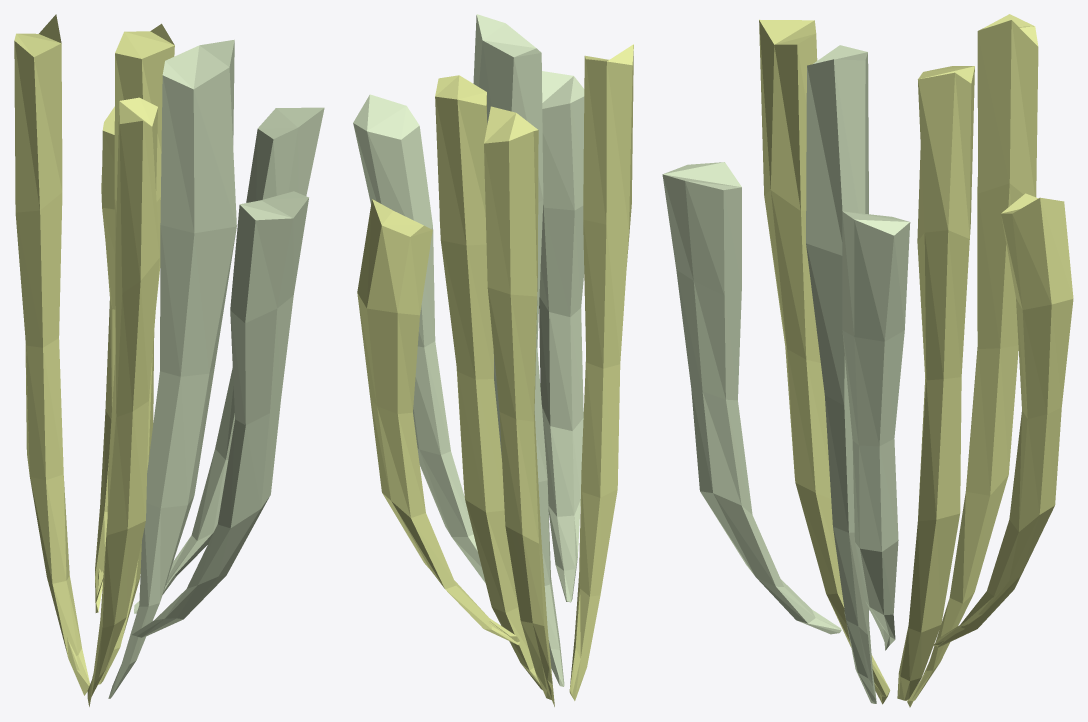
Rendered from more_trava_1.glb.
The picture shows the model from 3 angles, left to right: view 1: azimuth 30°, elevation 25°; view 2: azimuth 150°, elevation 25°; view 3: azimuth 270°, elevation 25°; orthographic projection. The views are drawn at different scales.
Parts seen in each view (by area): view 1: more_trava_1; view 2: more_trava_1; view 3: more_trava_1.
Boxes of the visible parts, x1=… form: more_trava_1: x1=14, y1=14, x2=324, y2=706; more_trava_1: x1=353, y1=14, x2=633, y2=706; more_trava_1: x1=662, y1=14, x2=1073, y2=707.
Size of the model in its own units: 0.7232 by 1.89 by 0.989.
Materials: 1 (1 with a texture image).
